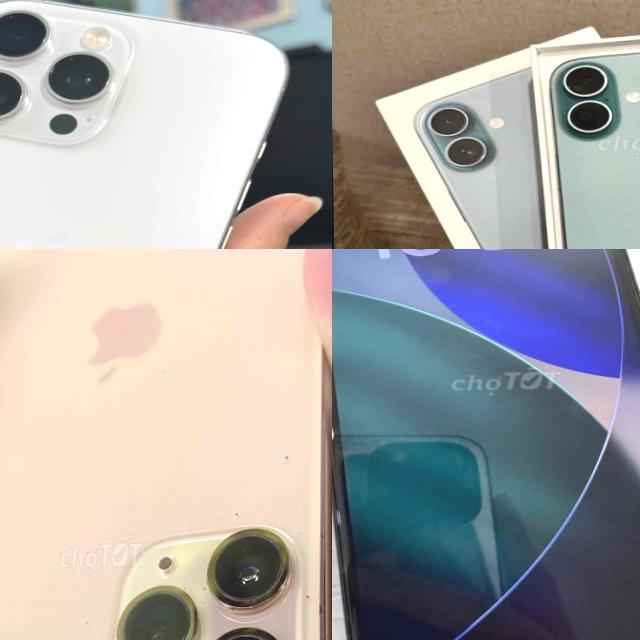scratch: (207, 520, 293, 608), (106, 565, 206, 640), (298, 576, 332, 639), (265, 434, 298, 464), (222, 503, 248, 520), (332, 505, 343, 526), (332, 419, 337, 444)
